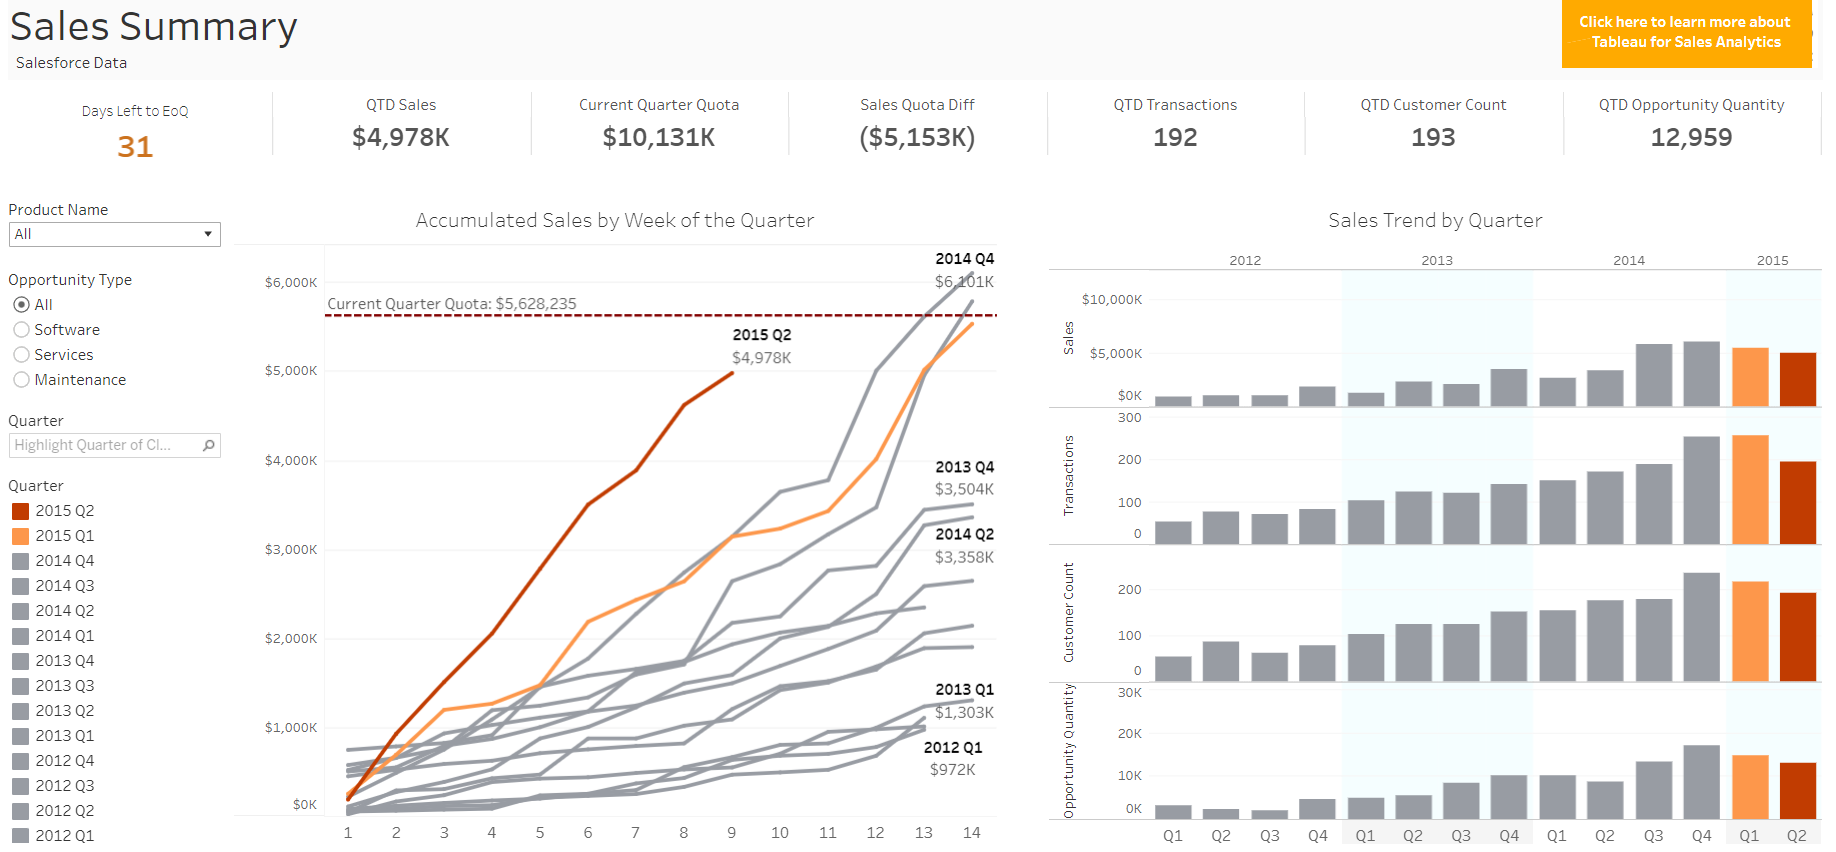

The dashboard page shown, as its layout file describes it:
{"tool":"tableau","page":{"name":"Sales Summary","canvas":[1000,1000],"units":"permille","ordinal":0},"visuals":[{"type":"title","box":[4.8,8.2,488.8,75.2]},{"type":"blank","box":[493.7,8.2,499.1,75.2]},{"type":"worksheet","title":"DaysLeftEOQ","mark":"Text","cols":["Closed","Close Date","Close Date"],"box":[4.8,91.7,494.2,55.6]},{"type":"worksheet","title":"QTDSummary","mark":"Text","rows":["Close Date"],"box":[499.1,91.7,493.6,55.6]},{"type":"blank","box":[4.8,151.4,990.3,35.1]},{"type":"worksheet","title":"Baseline","mark":"Line","box":[124.9,186.5,420.6,805.2]},{"type":"blank","box":[545.5,186.5,23.1,805.2]},{"type":"worksheet","title":"RevenueOverview","mark":"Bar","rows":["Calculation_2130721113237169","Opportunity ID (copy)","Calculation_8350721113628465","Opportunity Quantity"],"cols":["Close Date","Close Date"],"box":[568.6,186.5,426.6,805.2]},{"type":"parameter","param":"[Parameters].[Product Name Parameter]","box":[4.8,190.6,117.7,54.6]},{"type":"parameter","param":"[Parameters].[Opportunity Type Parameter]","box":[4.8,245.2,117.7,131.8]},{"type":"highlighter","title":"Baseline","param":"[excel-direct.42228.767574652775].[tqr:Close Date:ok]","box":[4.8,377,117.7,57.7]},{"type":"legend","title":"Baseline","param":"[excel-direct.42228.767574652775].[tqr:Close Date:ok]","box":[4.8,434.7,117.7,330.6]}]}

Visuals, with their boxes on the dashboard's canvas, which has no fixed pixel size, in thousandths of its width and height (x1, y1, x2, y2). These are canvas units, not pixel positions in the 1836x852 screenshot, which may show the page scaled, cropped or inside an application window:
title: [left=5, top=8, right=494, bottom=83]
blank: [left=494, top=8, right=993, bottom=83]
"DaysLeftEOQ" worksheet (Text marks): [left=5, top=92, right=499, bottom=147]
"QTDSummary" worksheet (Text marks): [left=499, top=92, right=993, bottom=147]
blank: [left=5, top=151, right=995, bottom=186]
"Baseline" worksheet (Line marks): [left=125, top=186, right=546, bottom=992]
blank: [left=546, top=186, right=569, bottom=992]
"RevenueOverview" worksheet (Bar marks): [left=569, top=186, right=995, bottom=992]
parameter: [left=5, top=191, right=122, bottom=245]
parameter: [left=5, top=245, right=122, bottom=377]
"Baseline" highlighter: [left=5, top=377, right=122, bottom=435]
"Baseline" legend: [left=5, top=435, right=122, bottom=765]
